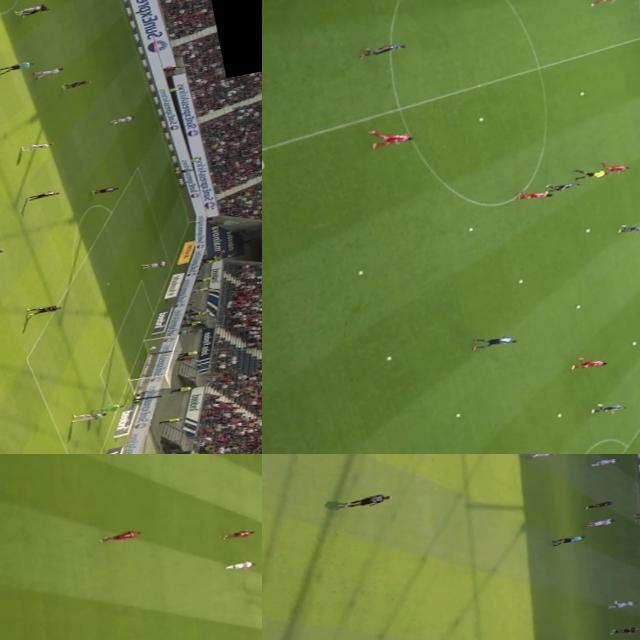ball: (466, 226, 476, 232), (577, 90, 587, 96), (454, 412, 463, 418), (582, 228, 592, 233), (384, 356, 394, 361), (356, 270, 366, 275), (556, 413, 564, 418), (630, 342, 640, 346), (574, 305, 582, 310), (518, 278, 524, 284), (477, 117, 484, 122)
player: (366, 123, 416, 149), (469, 332, 518, 351), (342, 492, 392, 510), (21, 300, 65, 320), (568, 353, 606, 372), (362, 42, 407, 58), (587, 398, 624, 416), (9, 2, 49, 16), (70, 409, 107, 424), (596, 160, 628, 176), (14, 141, 56, 153), (544, 180, 579, 194), (100, 532, 140, 544), (606, 596, 636, 612), (28, 188, 62, 202), (606, 624, 640, 638), (16, 5, 52, 18), (59, 78, 92, 92), (33, 66, 66, 80), (517, 188, 549, 202), (222, 560, 254, 574), (223, 529, 256, 542), (90, 184, 120, 198), (92, 404, 125, 416), (588, 516, 618, 529), (586, 499, 616, 512), (613, 222, 640, 236), (140, 259, 170, 271), (590, 457, 618, 468), (106, 115, 133, 126), (592, 0, 624, 5), (529, 454, 564, 458), (631, 508, 640, 522)
